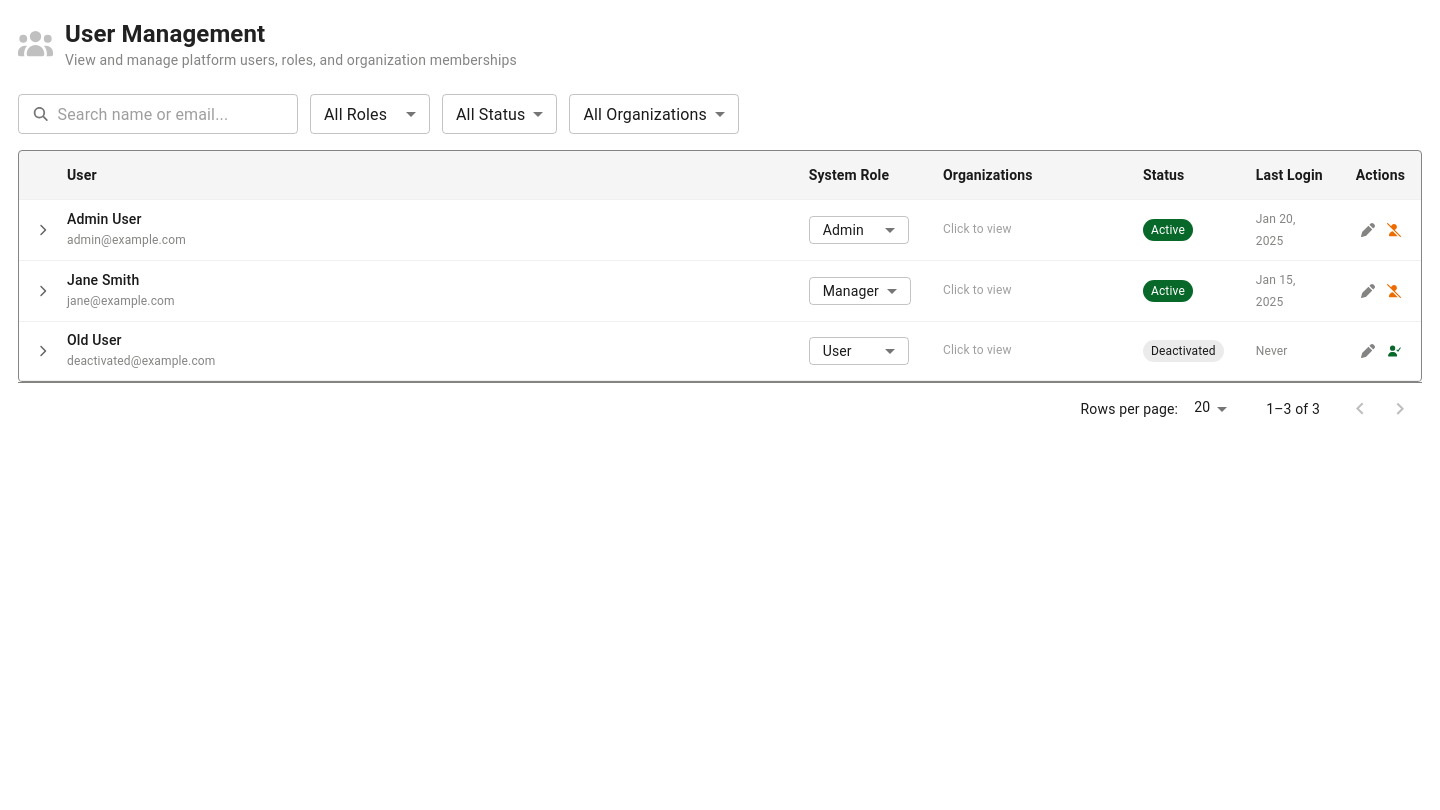
UserListPage › shows deactivate confirmation dialog
Expected: the text "Jane Smith" is shown, [67,272,139,288]
Click the button named "deactivate user" in the row of "Admin User" at (1394, 230), box [1383,219,1405,241]
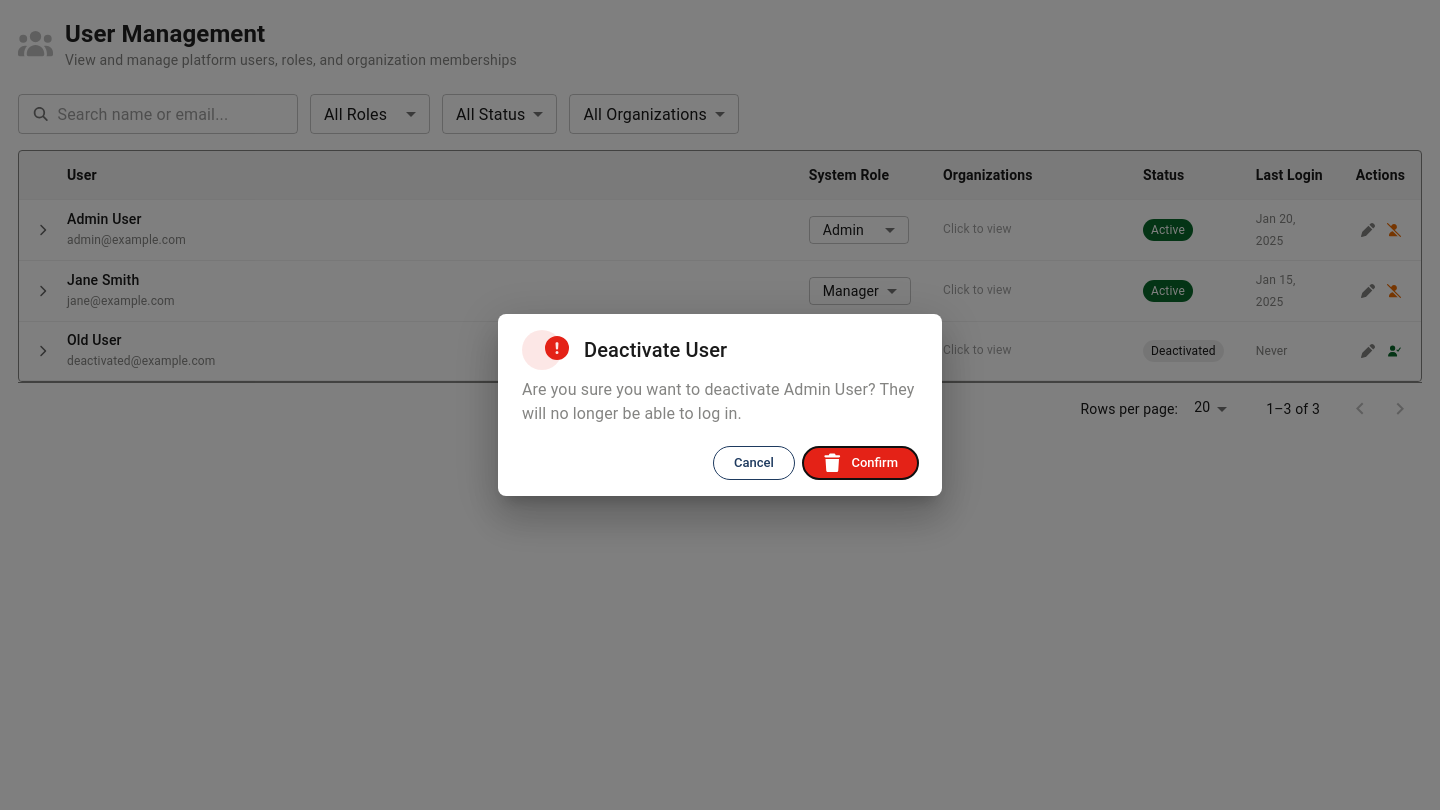
Now the text "no longer be able to log in" is shown, box [522,380,914,423]
